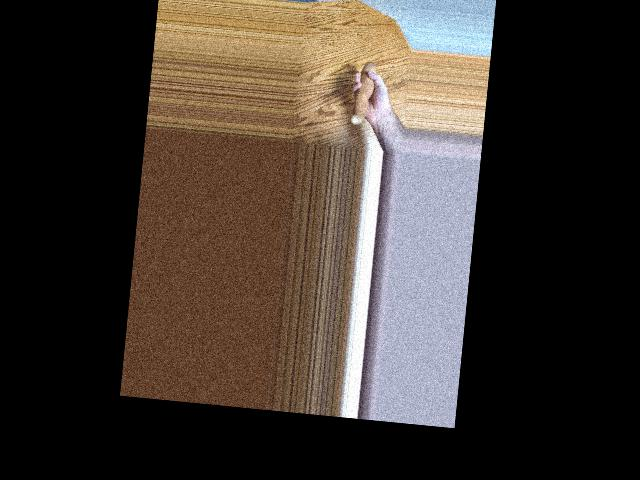sweet_potato: (352, 56, 380, 128)
